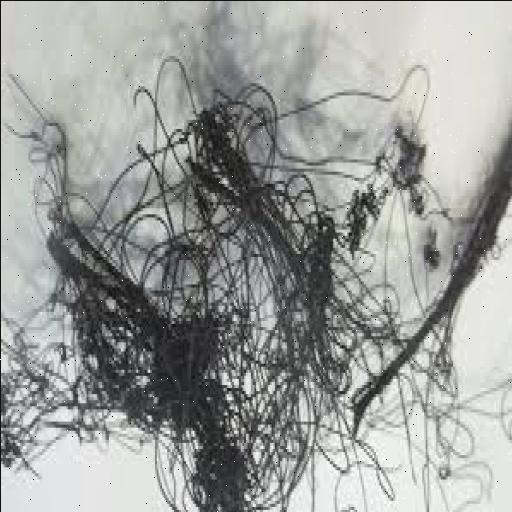spaghetti: (17, 56, 421, 475)
